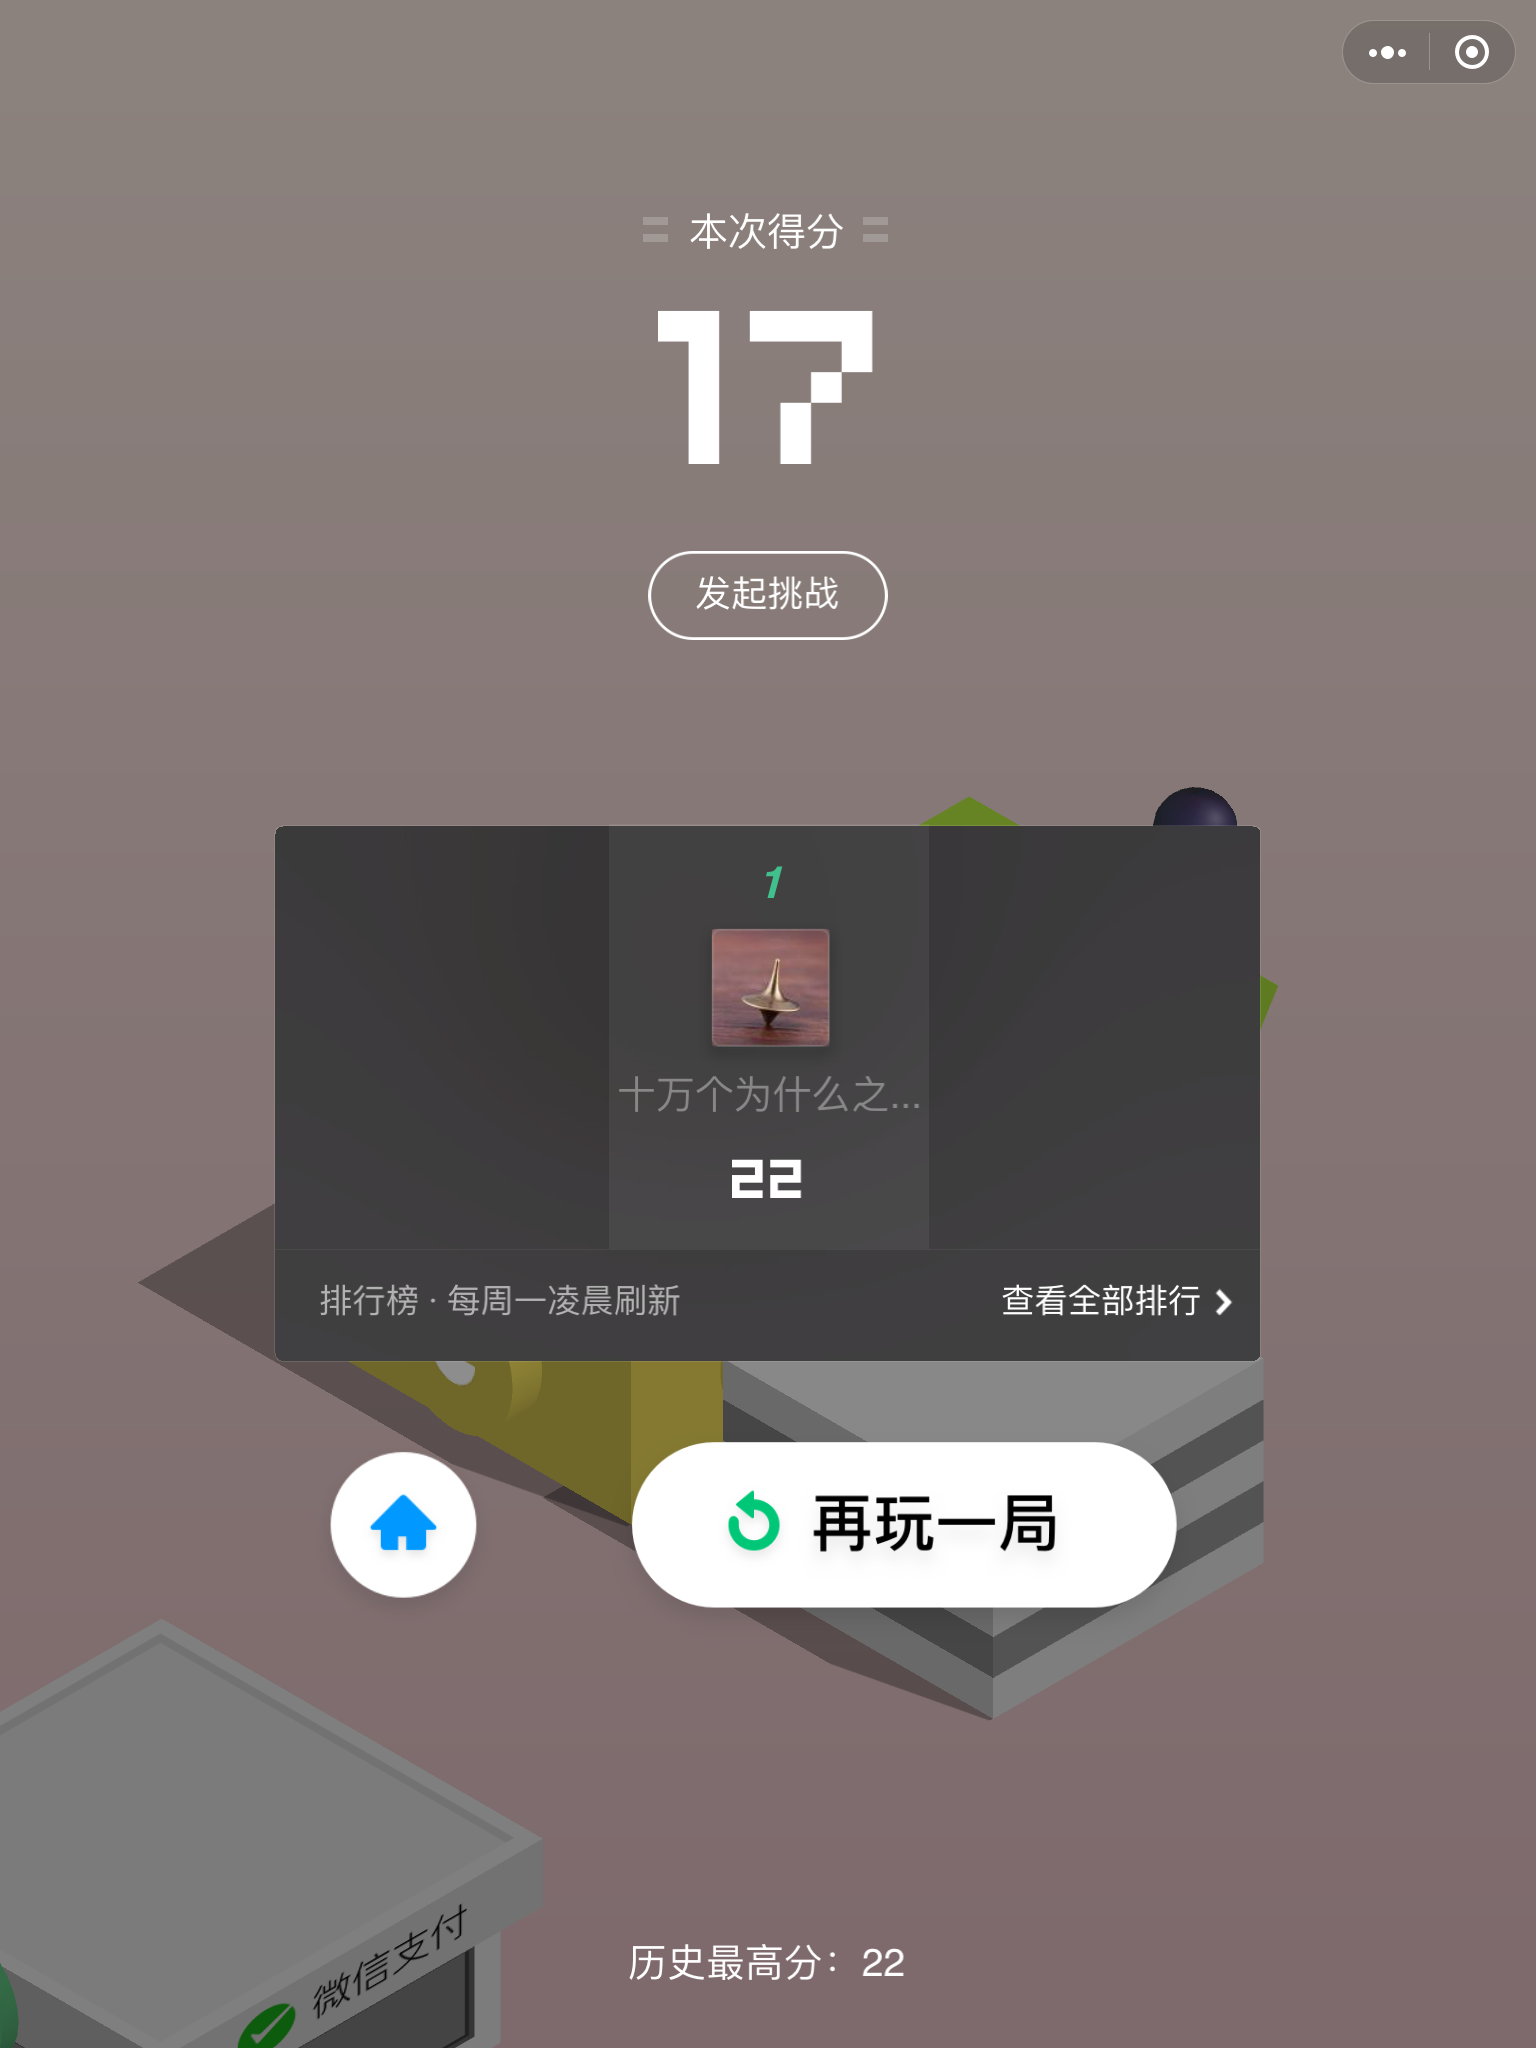f: (2, 1621, 541, 2048)
s: (626, 1434, 1186, 1613)
